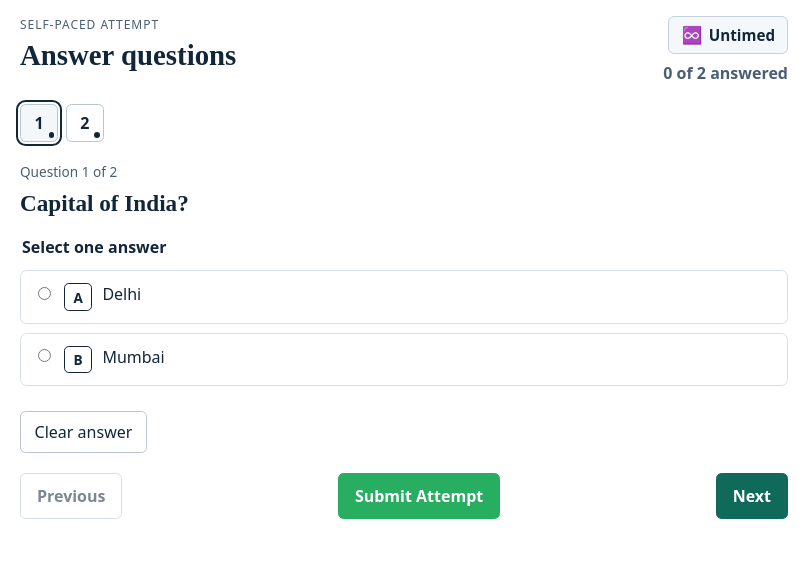
Test case: AttemptPlayer integration flow › selects an answer, autosaves, and marks palette answered only after success
Click the radio button labelled "A Delhi".
click(44, 293)  # box x1=38 y1=287 x2=51 y2=300
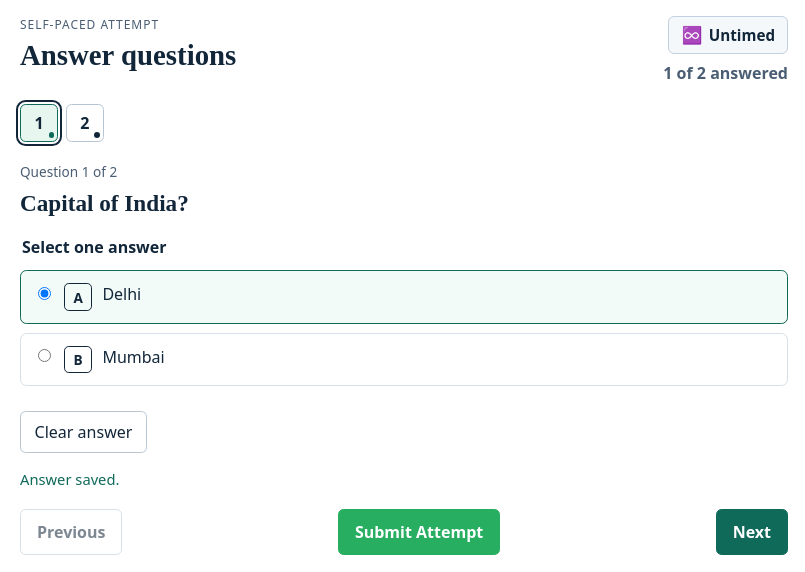
Now the text "1 of 2 answered" is shown, box x1=663 y1=62 x2=788 y2=84
